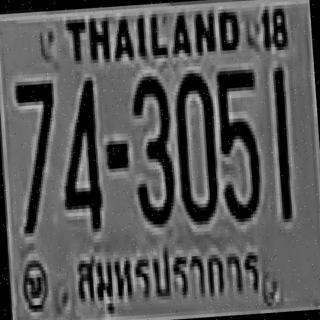N00: (171, 68, 219, 222)
N01: (270, 66, 292, 220)
N03: (128, 72, 176, 226)
N04: (54, 75, 102, 229)
N05: (214, 66, 262, 220)
N07: (13, 78, 61, 232)
P57: (67, 235, 268, 320)
